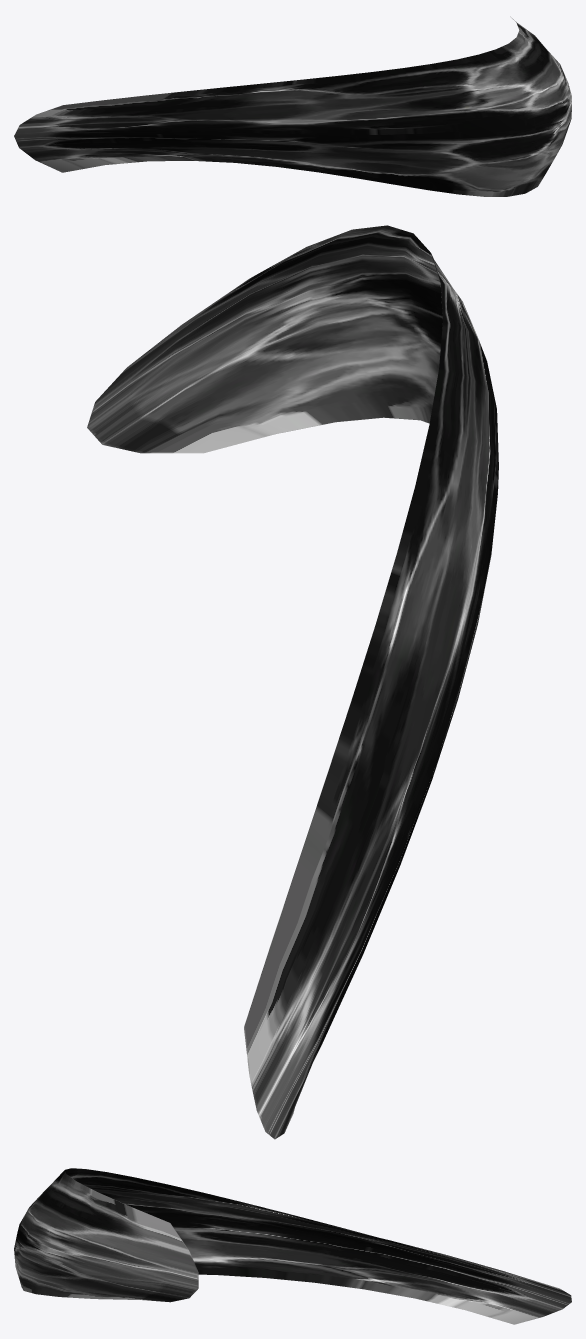
Rendered from FxR2KalieninaAttack02.fbx.
3 views of the same model, one above another, from view 1: azimuth 30°, elevation 25°; view 2: azimuth 150°, elevation 25°; view 3: azimuth 270°, elevation 25° (orthographic). The views are drawn at different scales.
Parts seen in each view (by area): view 1: titui01_02; view 2: titui01_02; view 3: titui01_02.
Part boxes in pixels (left/top/right/bottom): titui01_02: left=14, top=16, right=571, bottom=196; titui01_02: left=87, top=225, right=498, bottom=1139; titui01_02: left=14, top=1168, right=571, bottom=1324.
Bounding box in the file's own units: 2.39 × 1.96 × 4.18.
